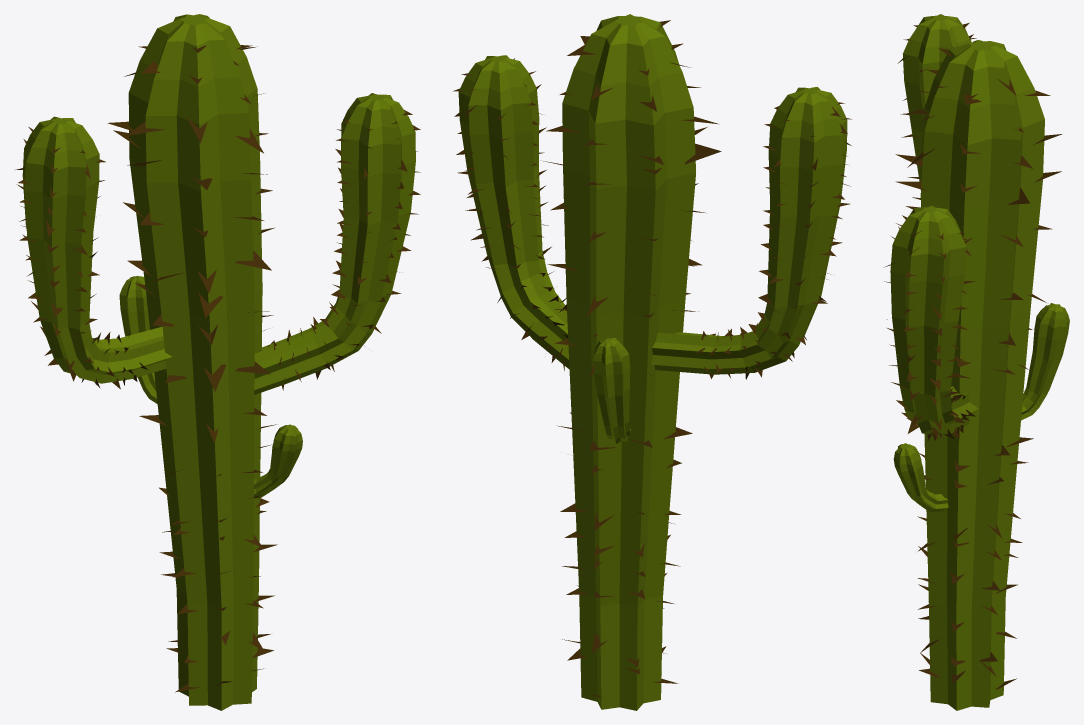
File: Cactus.fbx
The picture shows the model from 3 angles, left to right: view 1: azimuth 30°, elevation 25°; view 2: azimuth 150°, elevation 25°; view 3: azimuth 270°, elevation 25°; orthographic projection. The views are drawn at different scales.
Parts seen in each view (by area): view 1: Circle.451; view 2: Circle.451; view 3: Circle.451.
Boxes of the visible parts, box(x1,y1,x2,y2) form: Circle.451: box(14, 14, 420, 710); Circle.451: box(453, 14, 851, 710); Circle.451: box(884, 14, 1069, 710).
Size of the model in its own units: 889 by 1468 by 389.
